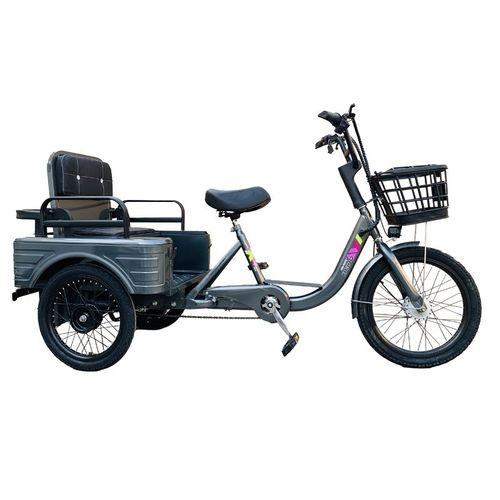empty: (16, 115, 491, 375)
